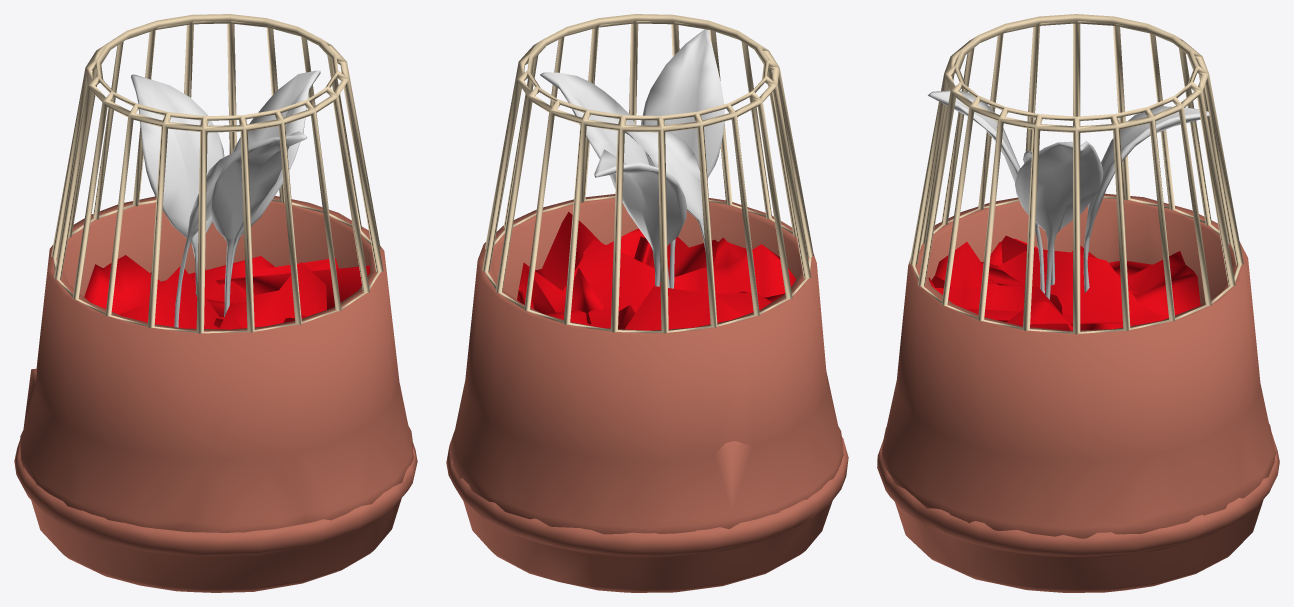
The model's file is Plant.fbx.
The picture shows the model from 3 angles, left to right: view 1: azimuth 30°, elevation 25°; view 2: azimuth 150°, elevation 25°; view 3: azimuth 270°, elevation 25°; orthographic projection.
Parts seen in each view (by area): view 1: coffee_cup.004; view 2: coffee_cup.004; view 3: coffee_cup.004.
Boxes of the visible parts, x1,y1,x2,y2 form: coffee_cup.004: (14,14,417,592); coffee_cup.004: (446,14,848,592); coffee_cup.004: (877,14,1279,592).
Size of the model in its own units: 53.42 by 67.14 by 53.49.
